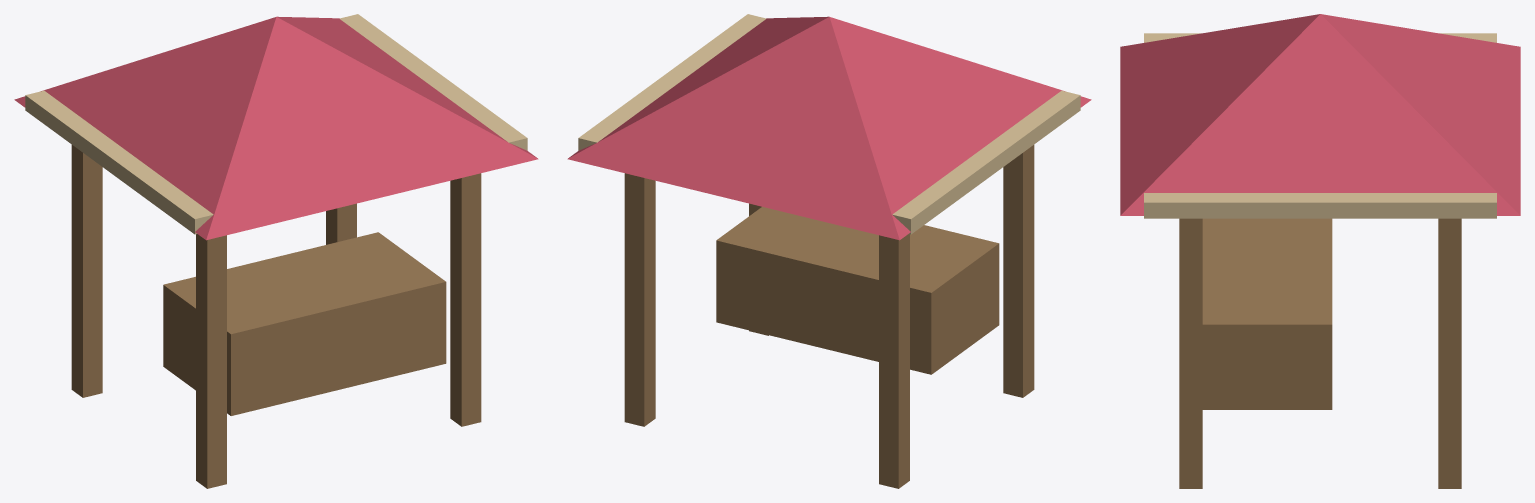
File: market-tent.glb
The picture shows the model from 3 angles, left to right: view 1: azimuth 30°, elevation 25°; view 2: azimuth 150°, elevation 25°; view 3: azimuth 270°, elevation 25°; orthographic projection. The views are drawn at different scales.
Parts seen in each view (by area): view 1: medieval-market-tent; view 2: medieval-market-tent; view 3: medieval-market-tent.
Boxes of the visible parts, <box> form: medieval-market-tent: <box>14,14,538,488</box>; medieval-market-tent: <box>567,14,1091,488</box>; medieval-market-tent: <box>1120,14,1520,488</box>.
Size of the model in its own units: 0.68 by 0.76 by 0.68.
